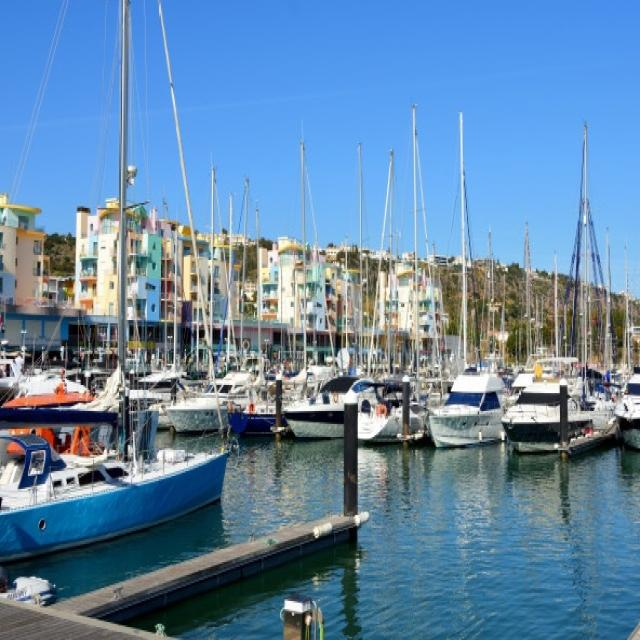passenger ship: (494, 365, 586, 462), (431, 372, 508, 462), (284, 379, 348, 468), (351, 369, 420, 447), (598, 364, 640, 450)
